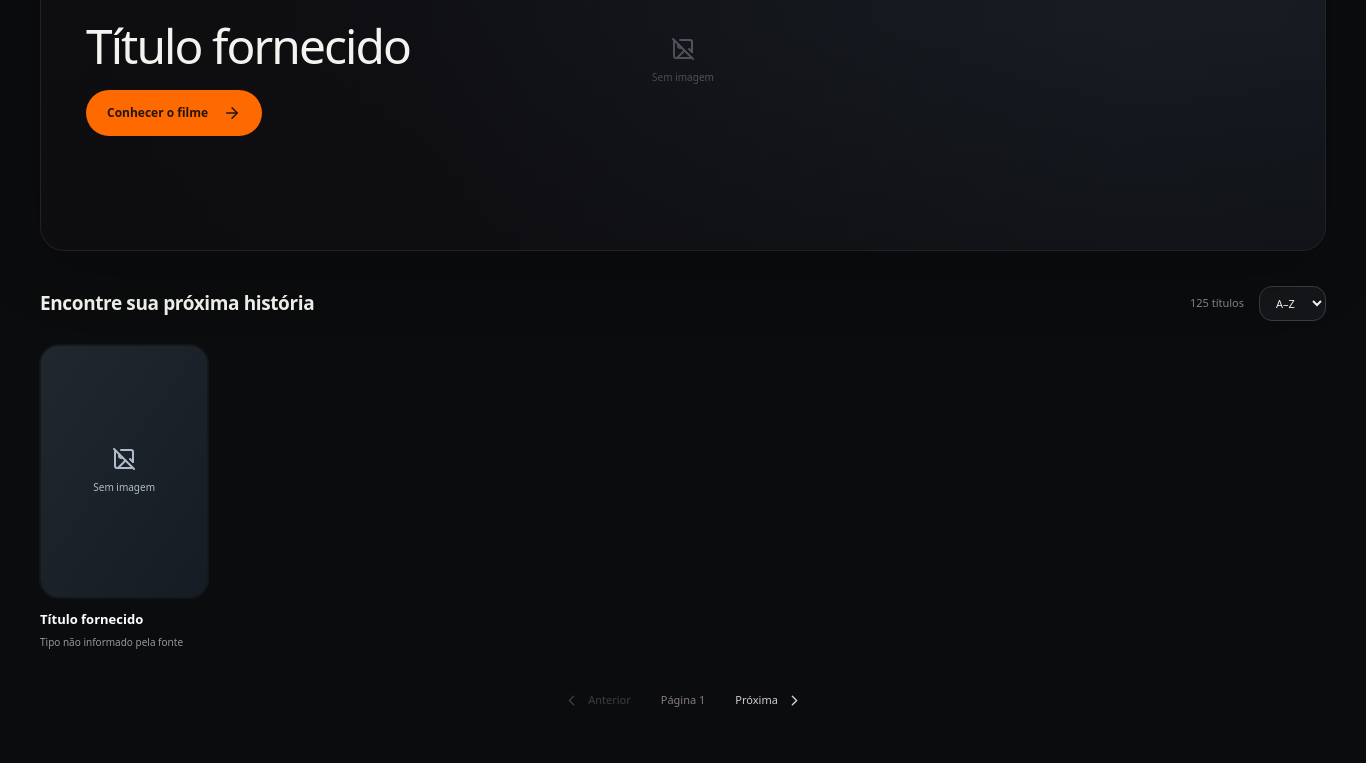
Test: fronteira nativa da Fase 3 › consulta páginas no backend sem receber URLs e mantém registros sem classificação
(page scrolled)
Expected: the button with aria-label "Ver detalhes de Título fornecido" is shown, [40, 345, 208, 650]
Expected: the text "Tipo não informado pela fonte" is shown, [40, 635, 183, 649]
Click the button "Próxima": coordinates (769, 701) [725, 682, 813, 719]
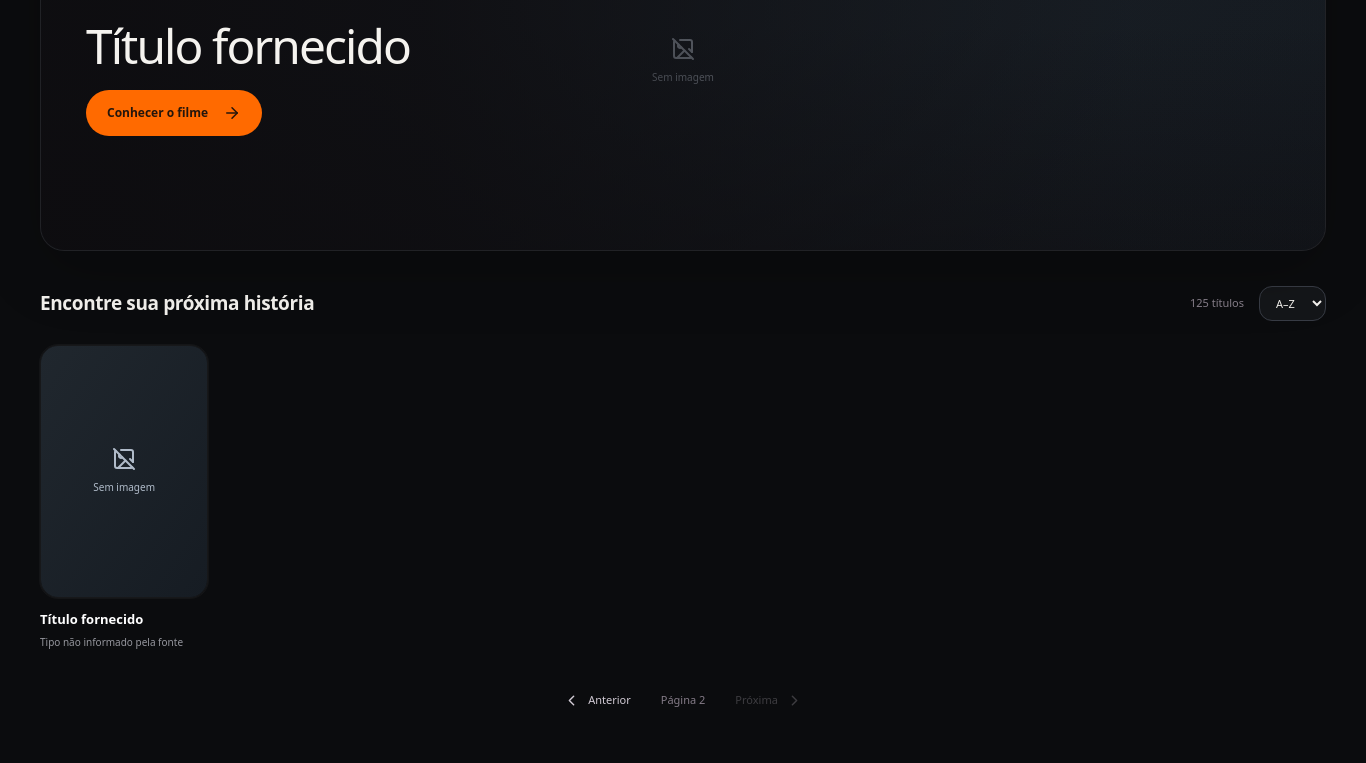
Expected: the text "Página 2" is shown, [661, 692, 705, 709]
